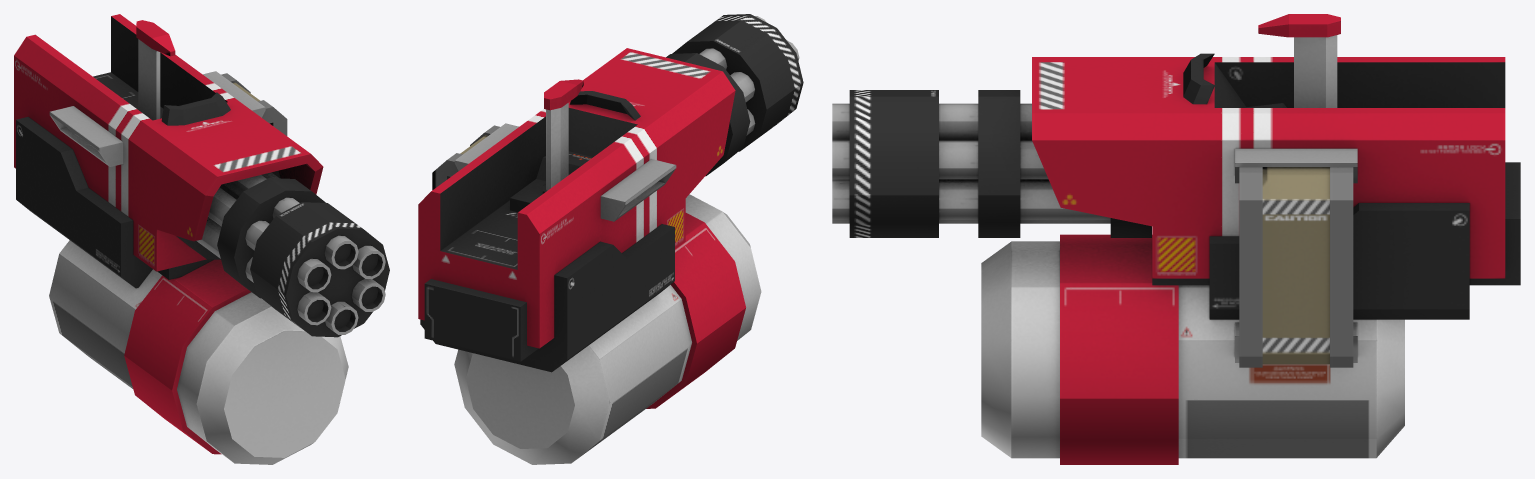
The model's file is DDW111.fbx.
3 views of the same model, side by side, from view 1: azimuth 30°, elevation 25°; view 2: azimuth 150°, elevation 25°; view 3: azimuth 270°, elevation 25° (orthographic). The views are drawn at different scales.
Visible parts, largest first — view 1: DDW111, DDW111_2; view 2: DDW111, DDW111_2; view 3: DDW111, DDW111_2.
Boxes of the visible parts, x1,y1,x2,y2 form: DDW111: (14, 14, 348, 464); DDW111_2: (176, 170, 389, 337); DDW111: (418, 48, 761, 464); DDW111_2: (666, 14, 803, 176); DDW111: (981, 14, 1520, 464); DDW111_2: (832, 90, 1151, 237).
Size of the model in its own units: 0.3983 by 0.7046 by 1.01.
